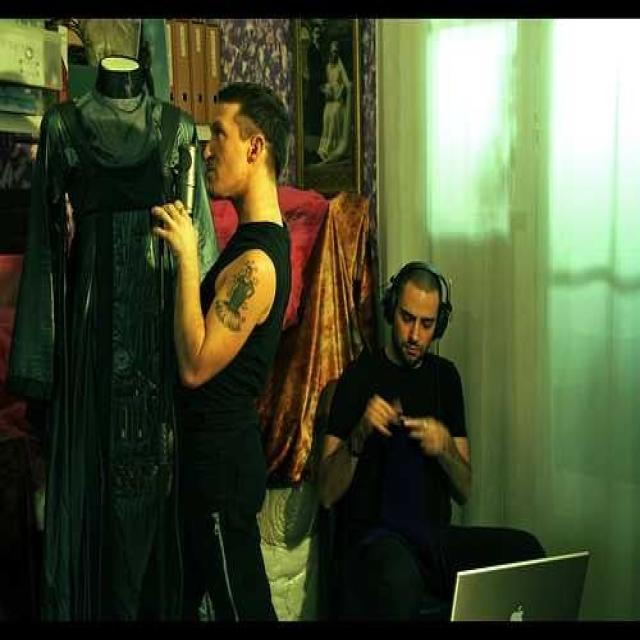microphone: (176, 142, 197, 219)
